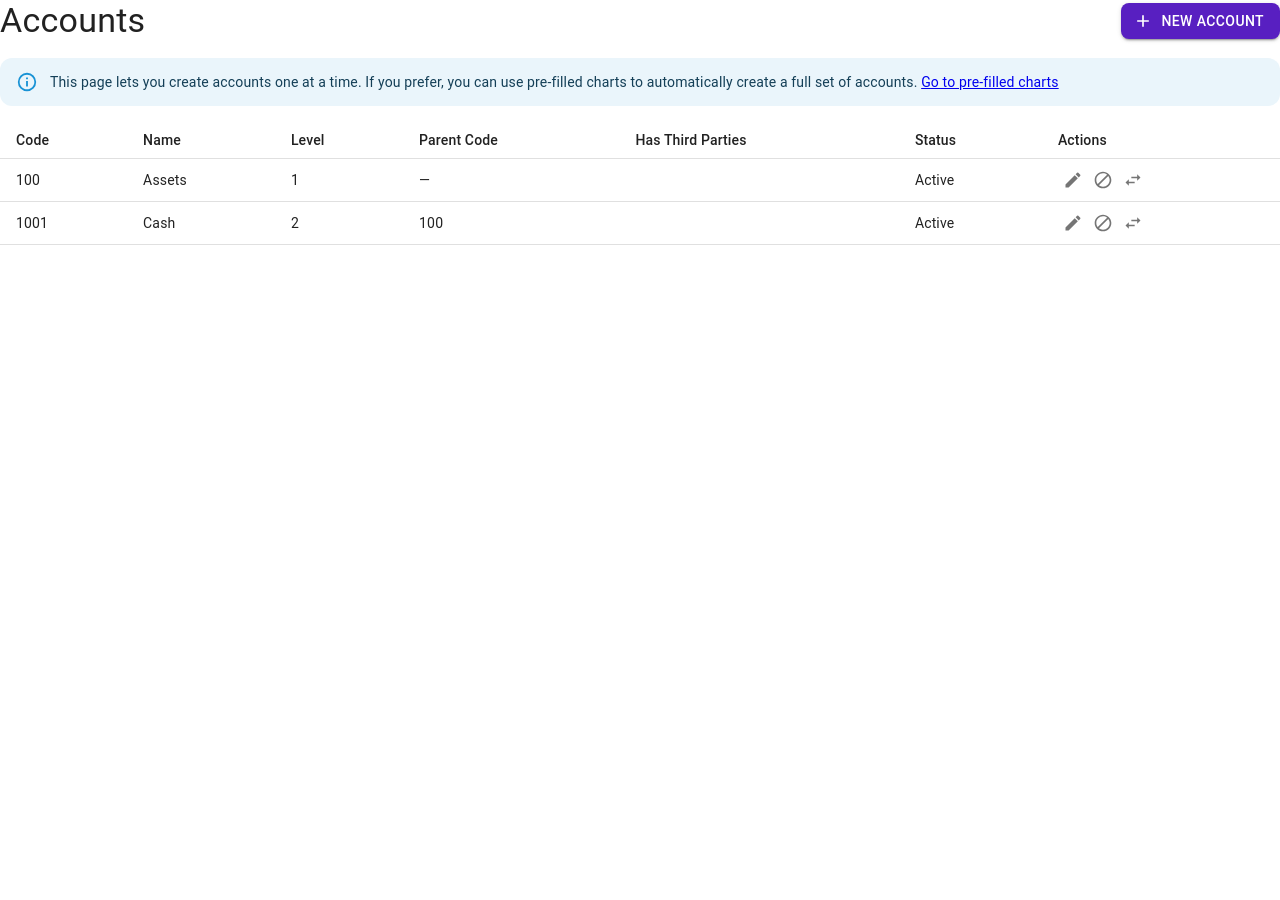
Scenario: AccountsPage › "New Account" button opens create dialog
Click the button with test id "new-account-btn" at (1201, 21), box [1121,3,1279,39]
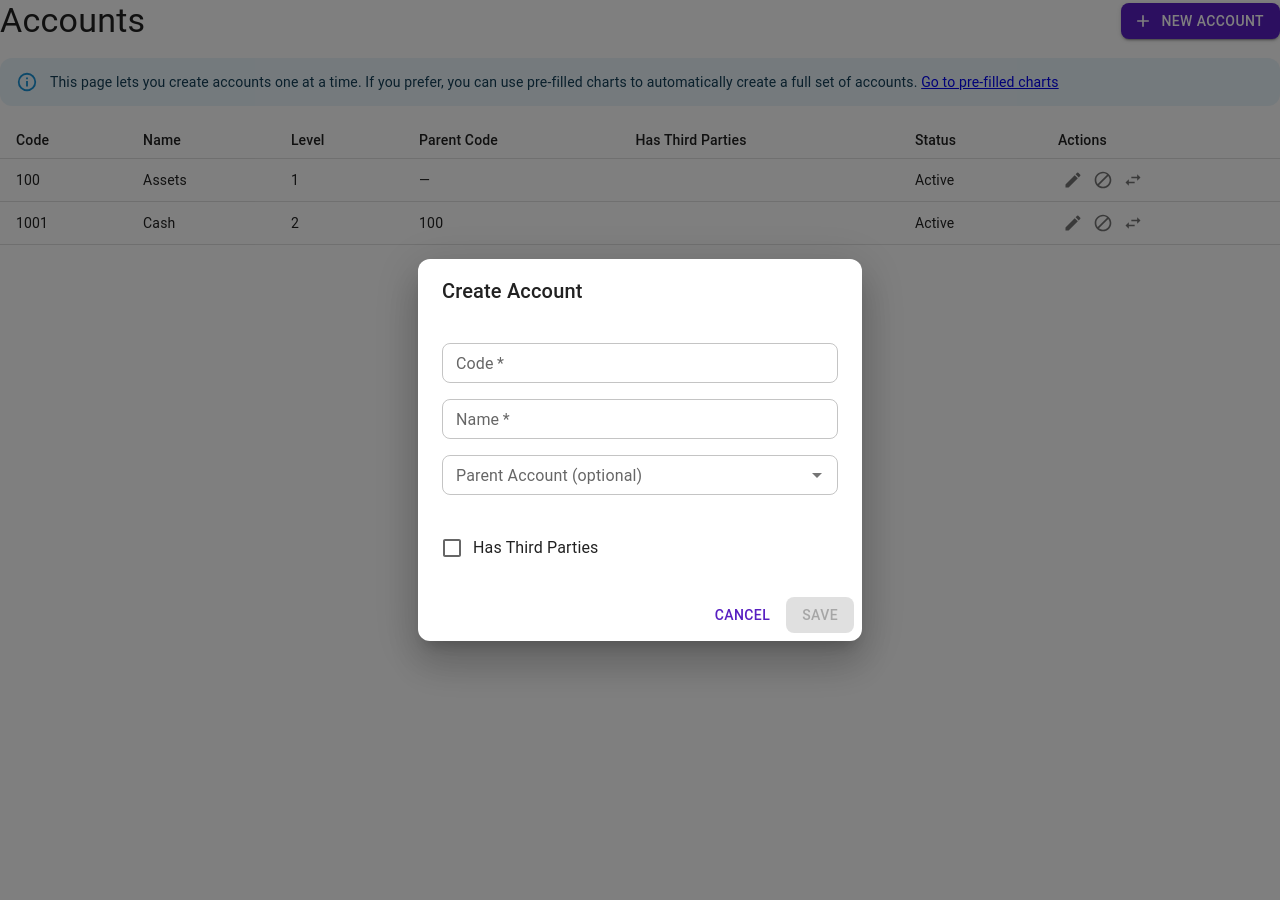
Now the heading "Create Account" is shown, box [442,279,582,303]
